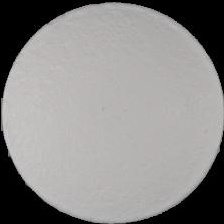68788-0797: (0, 0, 224, 224)
